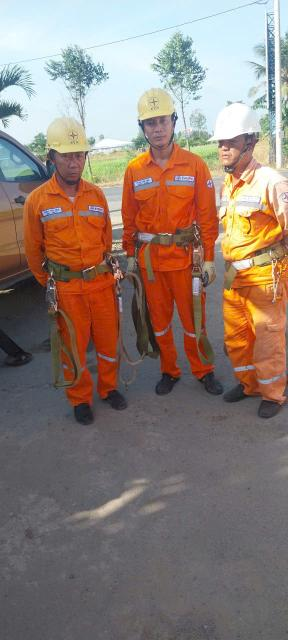gloves: (200, 260, 217, 283), (125, 257, 141, 278)
harness: (32, 238, 122, 295), (127, 210, 205, 255), (204, 237, 288, 275)
helmet: (42, 107, 101, 169), (208, 101, 265, 151), (122, 84, 178, 131)
shoes: (182, 359, 223, 402), (216, 365, 251, 413), (248, 383, 285, 427), (144, 363, 184, 401), (69, 392, 106, 430), (94, 382, 133, 418)
